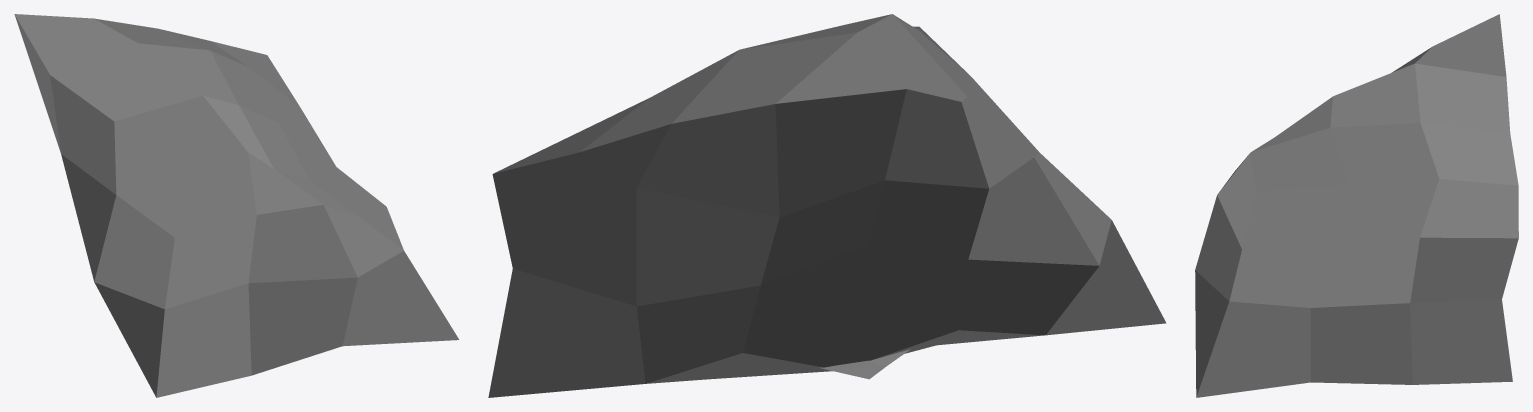
Rendered from rock-l-blocky.glb.
The picture shows the model from 3 angles, left to right: view 1: azimuth 30°, elevation 25°; view 2: azimuth 150°, elevation 25°; view 3: azimuth 270°, elevation 25°; orthographic projection. The views are drawn at different scales.
Visible parts, largest first — view 1: rock-l-blocky; view 2: rock-l-blocky, rock-l-blocky-moss2; view 3: rock-l-blocky.
Boxes of the visible parts, <box> form: rock-l-blocky: <box>14,14,459,397</box>; rock-l-blocky: <box>488,14,1166,397</box>; rock-l-blocky-moss2: <box>819,349,910,379</box>; rock-l-blocky: <box>1195,14,1518,397</box>.
Bounding box in the file's own units: 3.72 × 3.2 × 3.67.
2 materials, 2 textured.
